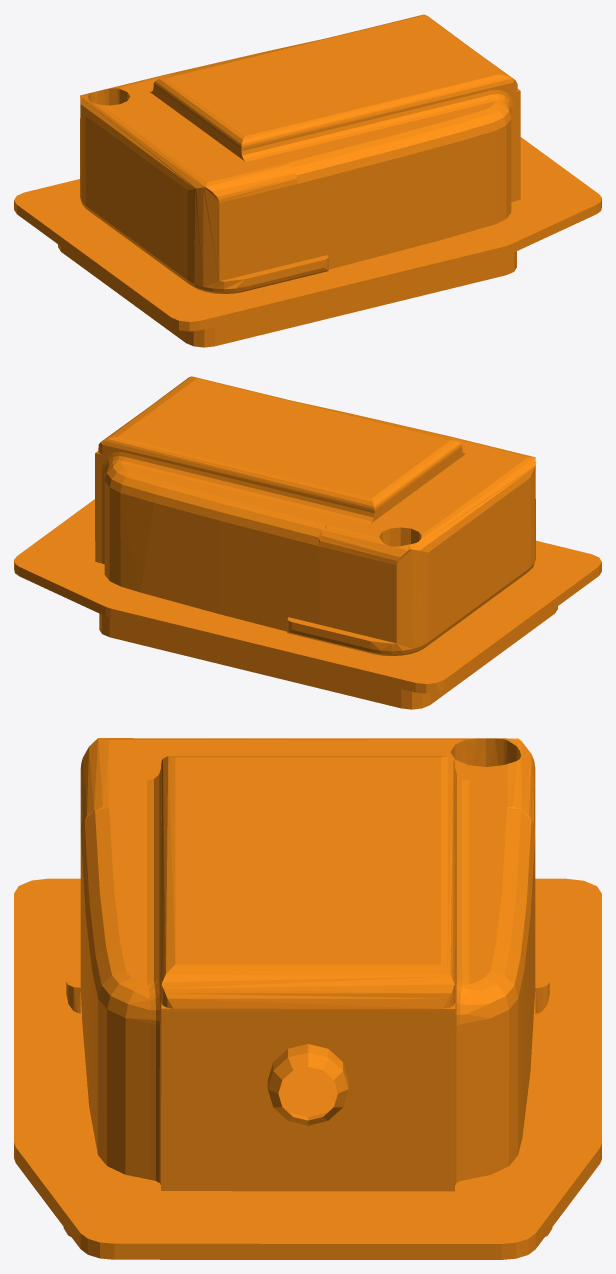
The model's file is main insertion link.obj.
3 views of the same model, one above another, from view 1: azimuth 30°, elevation 25°; view 2: azimuth 150°, elevation 25°; view 3: azimuth 270°, elevation 25° (orthographic). The views are drawn at different scales.
Visible parts, largest first — view 1: main_insertion_link_Main_Insertion_Link; view 2: main_insertion_link_Main_Insertion_Link; view 3: main_insertion_link_Main_Insertion_Link.
Part boxes in pixels (left/top/right/bottom): main_insertion_link_Main_Insertion_Link: left=14, top=14, right=601, bottom=347; main_insertion_link_Main_Insertion_Link: left=14, top=376, right=601, bottom=709; main_insertion_link_Main_Insertion_Link: left=14, top=738, right=601, bottom=1259.
Bounding box in the file's own units: 1.22 × 0.4438 × 0.8302.
